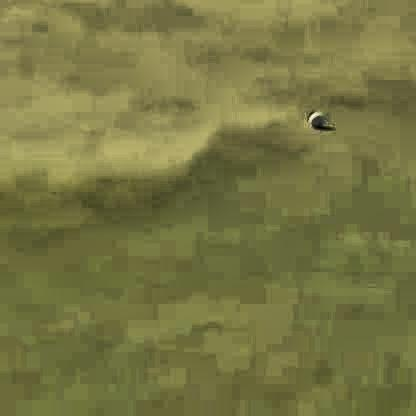golfball: (305, 109, 323, 127)
